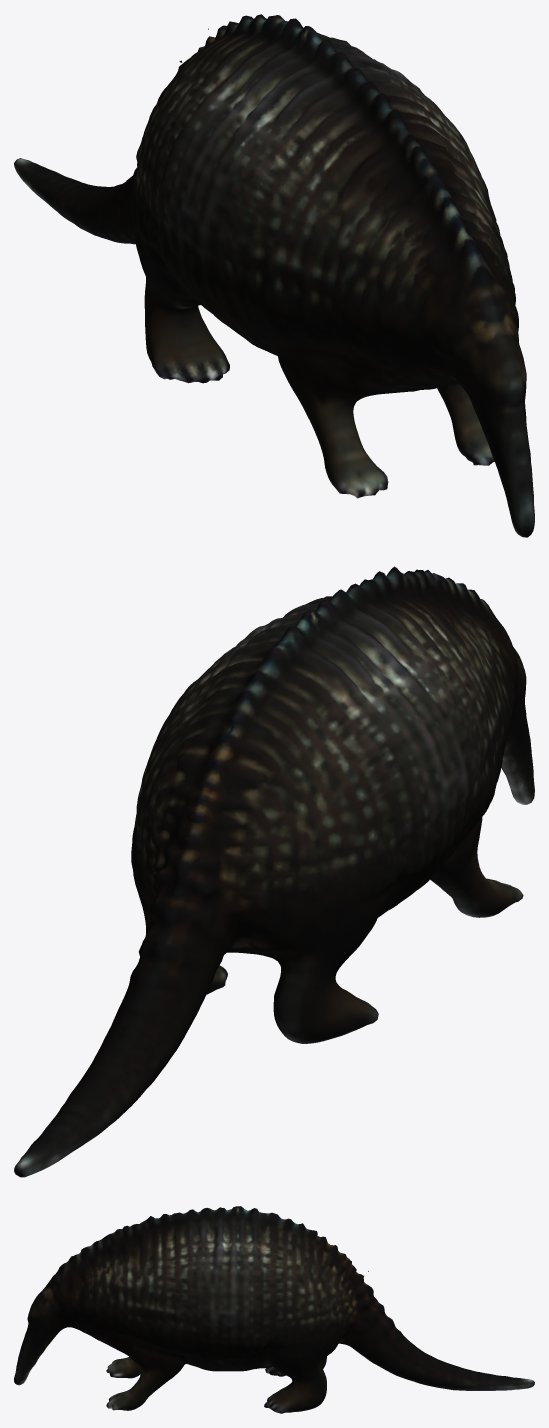
Rendered from a_brown_armadillo_3d_model.glb.
The picture shows the model from 3 angles, top to bottom: view 1: azimuth 30°, elevation 25°; view 2: azimuth 150°, elevation 25°; view 3: azimuth 270°, elevation 25°; orthographic projection. The views are drawn at different scales.
Bounding box in the file's own units: 0.2861 × 0.373 × 0.9448.
Materials: 1 (1 with a texture image).
